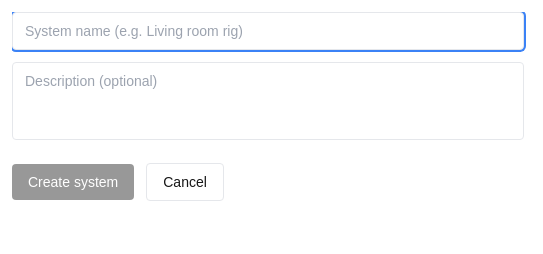
CreateSystemForm › Submission › shows server error message and keeps the form open on API failure
Type "My rig" into the field with placeholder "System name (e.g. Living room rig)" at (268, 31), box [12,12,524,50]
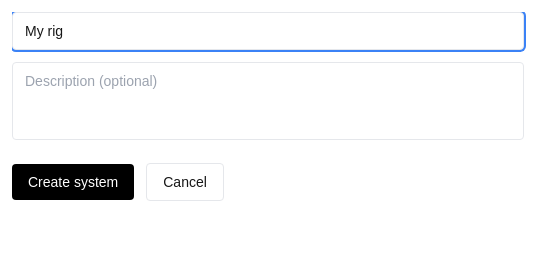
Click the button "Create system" at (73, 182), box [12,164,134,200]
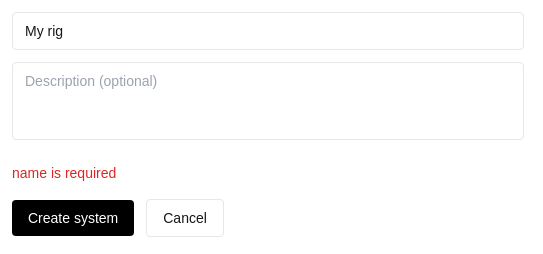
Expected: the text "name is required" is shown, [12,165,116,181]
